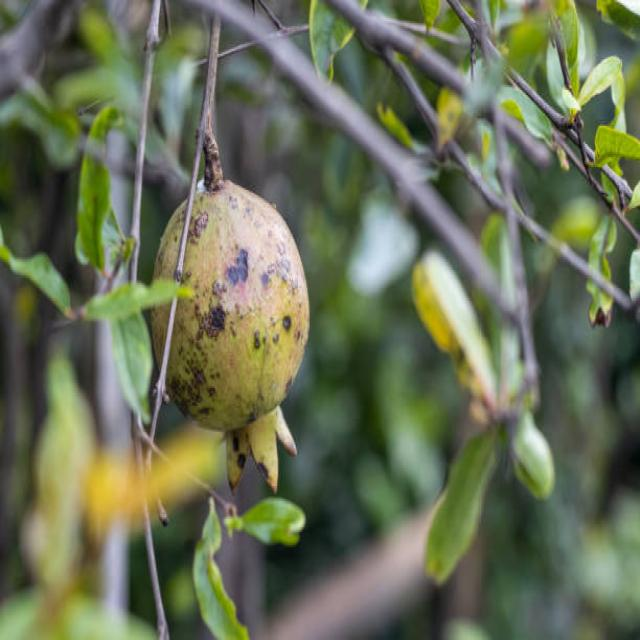Unripe: (151, 178, 310, 494)
